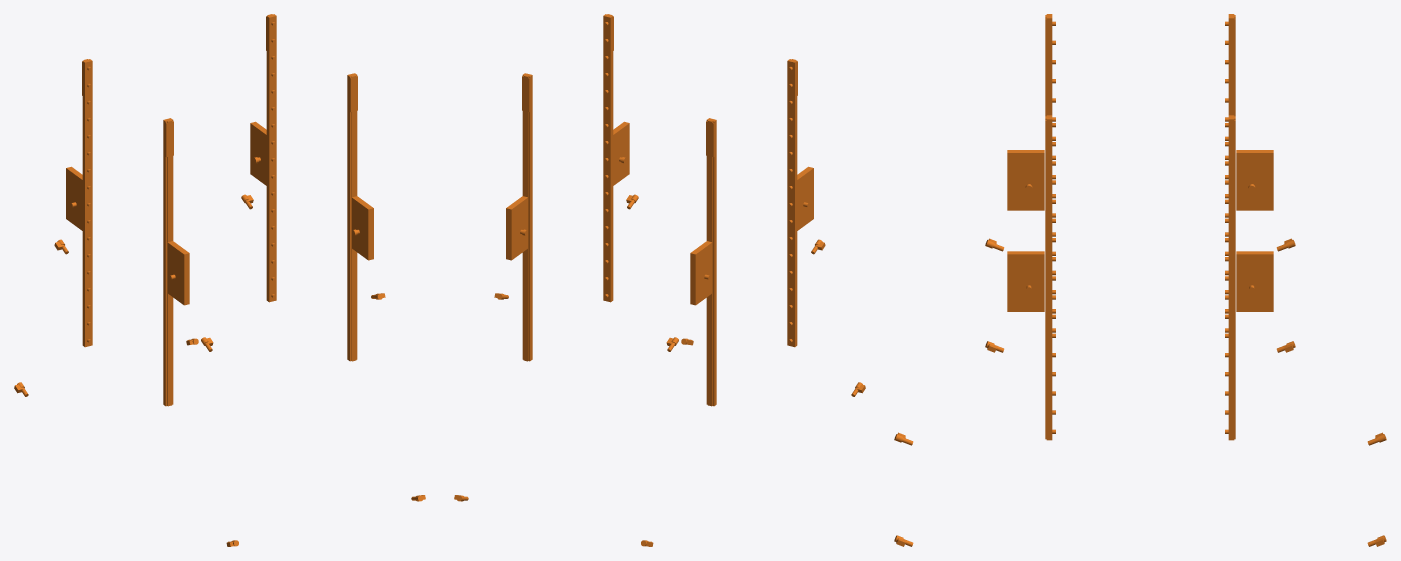
Rendered from b_cuts.glb.
3 renders of one model, left to right at view 1: azimuth 30°, elevation 25°; view 2: azimuth 150°, elevation 25°; view 3: azimuth 270°, elevation 25°, orthographic. The views are drawn at different scales.
Visible parts, largest first — view 1: BL_cut_ring_slot, BR_cut_ring_slot, FR_cut_ring_slot, FL_cut_ring_slot, FR_cut_panel, FL_cut_panel, BR_cut_panel, BL_cut_panel; view 2: FL_cut_ring_slot, FR_cut_ring_slot, BR_cut_ring_slot, BL_cut_ring_slot, BR_cut_panel, BL_cut_panel, FR_cut_panel, FL_cut_panel; view 3: FR_cut_ring_slot, BR_cut_ring_slot, FR_cut_panel, BR_cut_panel, FL_cut_panel, BL_cut_panel, FL_cut_ring_slot, BL_cut_ring_slot.
Part boxes in pixels (x1,y1,x2,y2): BL_cut_ring_slot: [82, 59, 92, 347]; BR_cut_ring_slot: [266, 14, 276, 302]; FR_cut_ring_slot: [347, 73, 357, 361]; FL_cut_ring_slot: [163, 118, 173, 406]; FR_cut_panel: [351, 196, 425, 501]; FL_cut_panel: [167, 241, 238, 546]; BR_cut_panel: [201, 121, 266, 351]; BL_cut_panel: [14, 166, 82, 396]; FL_cut_ring_slot: [787, 59, 797, 347]; FR_cut_ring_slot: [603, 14, 613, 302]; BR_cut_ring_slot: [522, 73, 532, 361]; BL_cut_ring_slot: [706, 118, 716, 406]; BR_cut_panel: [454, 196, 528, 501]; BL_cut_panel: [641, 241, 712, 546]; FR_cut_panel: [613, 121, 678, 351]; FL_cut_panel: [797, 166, 865, 396]; FR_cut_ring_slot: [1045, 115, 1055, 440]; BR_cut_ring_slot: [1225, 115, 1235, 440]; FR_cut_panel: [894, 251, 1044, 546]; BR_cut_panel: [1236, 251, 1386, 546]; FL_cut_panel: [894, 150, 1044, 445]; BL_cut_panel: [1236, 150, 1386, 445]; FL_cut_ring_slot: [1045, 14, 1055, 332]; BL_cut_ring_slot: [1225, 14, 1235, 332].
Bounding box in the file's own units: 0.365 × 0.6719 × 0.6981.
